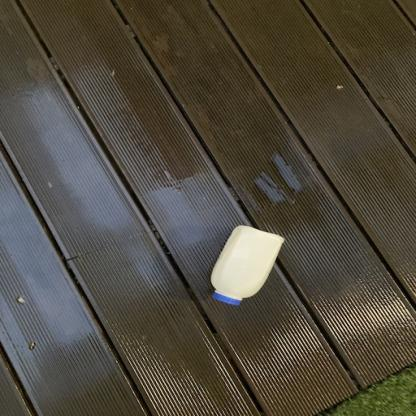trash: (208, 224, 288, 306)
